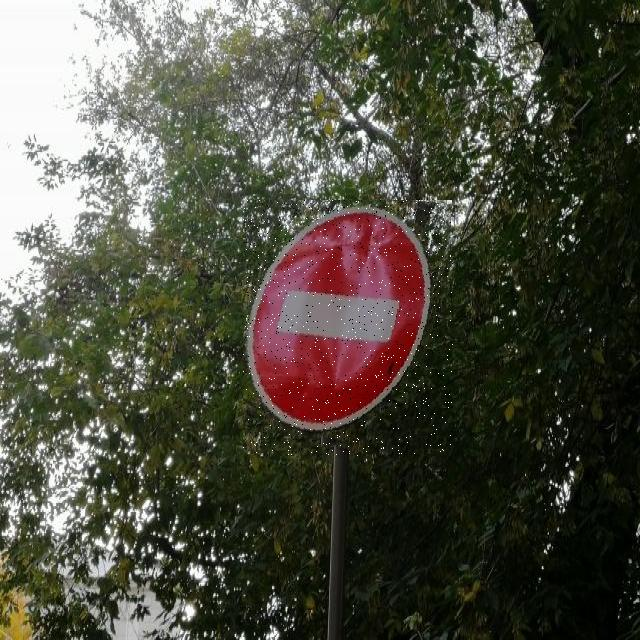no entry: (243, 200, 453, 456)
